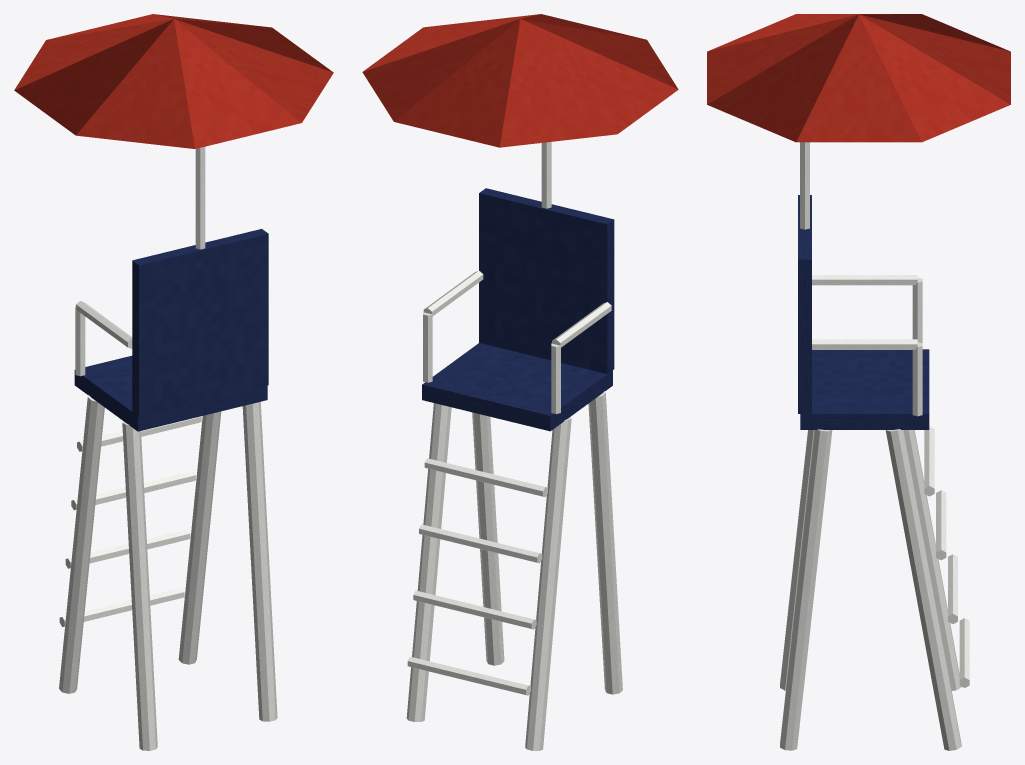
Rendered from lifeguard_chair.obj.
The picture shows the model from 3 angles, left to right: view 1: azimuth 30°, elevation 25°; view 2: azimuth 150°, elevation 25°; view 3: azimuth 270°, elevation 25°; orthographic projection. The views are drawn at different scales.
Visible parts, largest first — view 1: lifeguard_chair; view 2: lifeguard_chair; view 3: lifeguard_chair.
Boxes of the visible parts, x1=… form: lifeguard_chair: x1=14, y1=14, x2=333, y2=750; lifeguard_chair: x1=362, y1=14, x2=678, y2=750; lifeguard_chair: x1=707, y1=14, x2=1010, y2=750.
Size of the model in its own units: 1.62 by 4.13 by 1.62.
